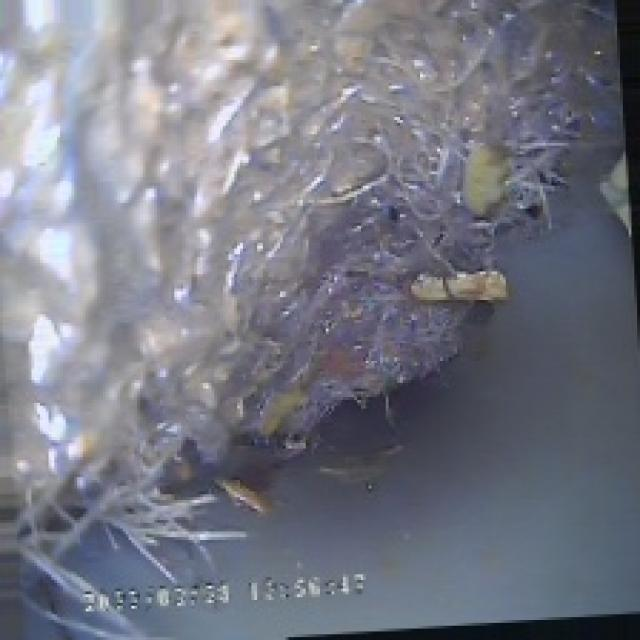sluge accumulation: (31, 26, 614, 537)
